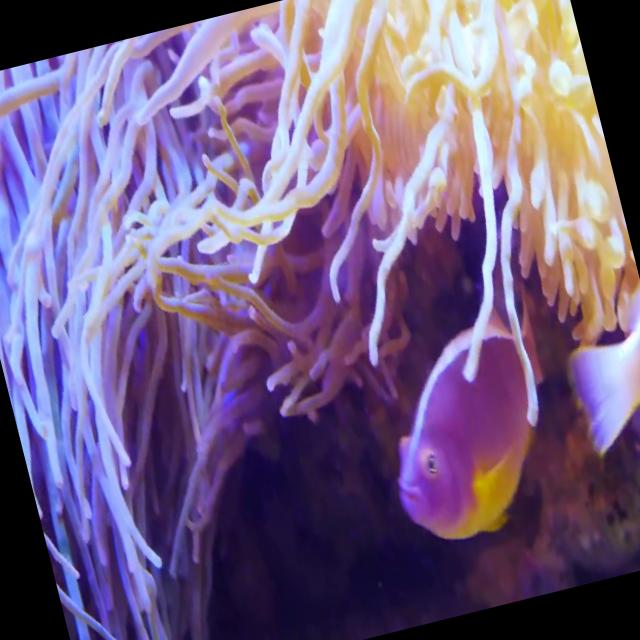fish: (357, 286, 601, 558), (551, 250, 640, 507)
